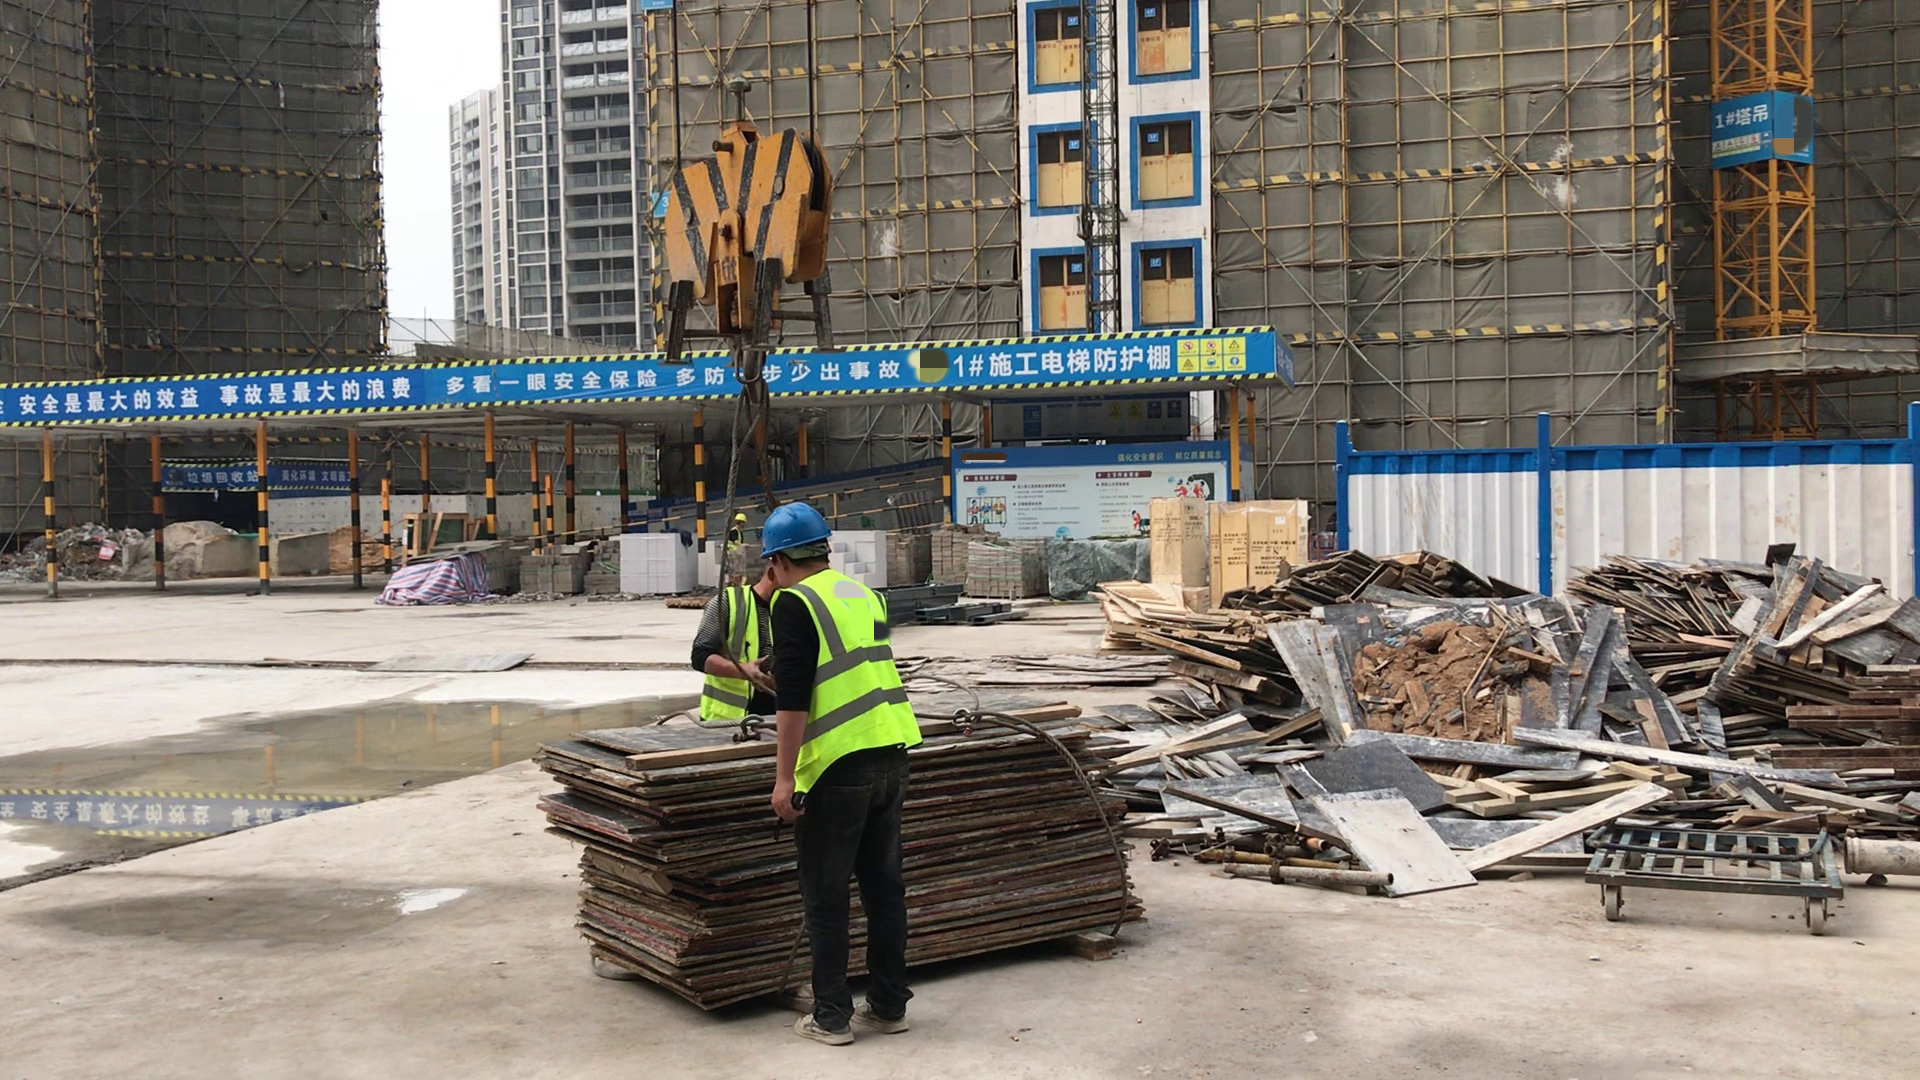board: (536, 699, 1159, 1014)
brick: (617, 531, 721, 593), (833, 531, 889, 589)
helmet: (761, 506, 829, 558), (734, 513, 746, 525)
hook: (665, 124, 836, 405)
person: (762, 505, 923, 1042), (691, 571, 774, 711), (726, 509, 752, 543)
slogan: (3, 376, 417, 417), (444, 358, 900, 394), (1174, 336, 1251, 372), (277, 465, 355, 487), (1711, 132, 1767, 158)
vest: (770, 568, 922, 795), (707, 583, 755, 721)
